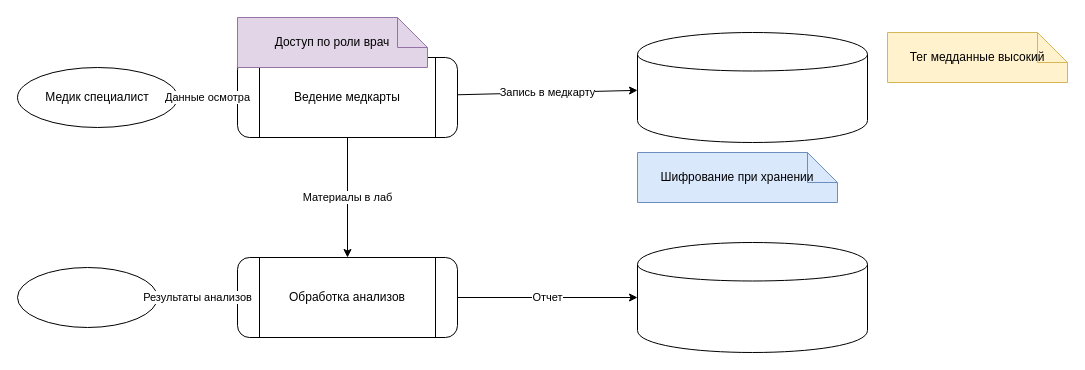
The diagram is 1085 pixels wide and 370 high, and some of its shapes have lost their labels. The box of each missing label's shape, as (x1, y1, x2, y2) in pixels:
Лаборатория: (16, 266, 158, 328)
Отчеты анализов PDF: (636, 242, 868, 352)
Файловый сервер сканы: (636, 32, 868, 142)
